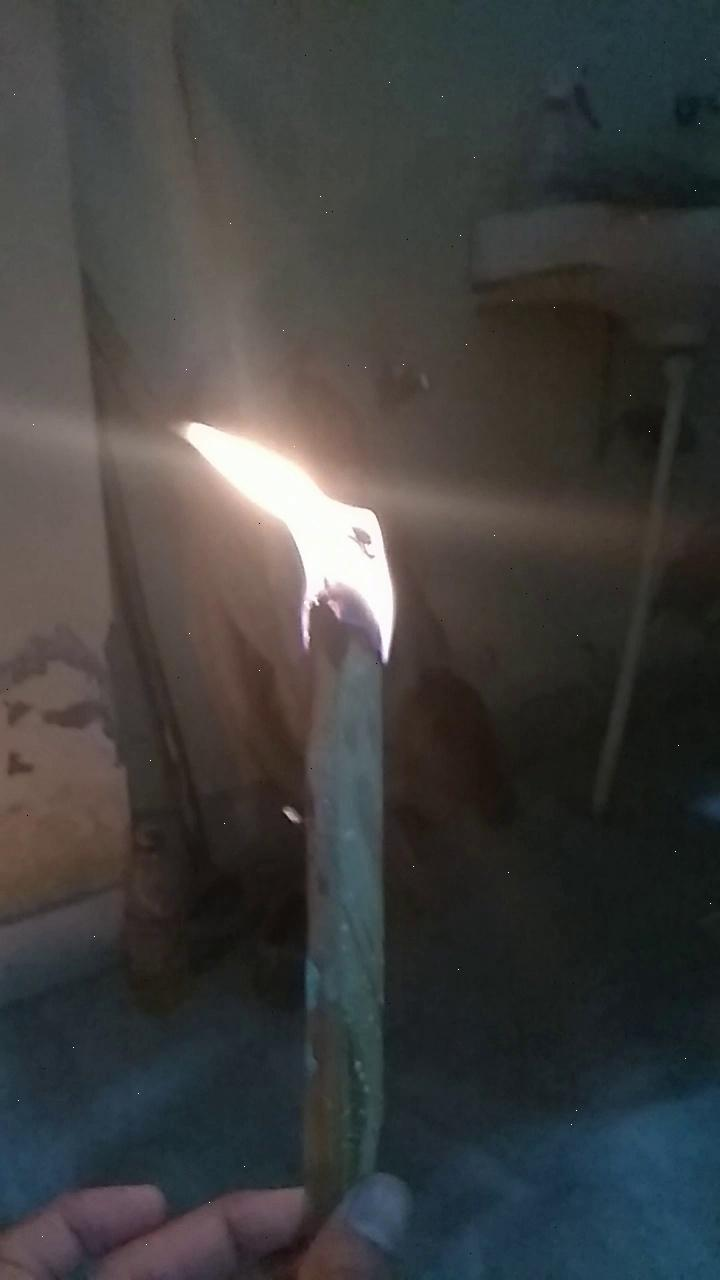fire: (128, 367, 414, 680)
